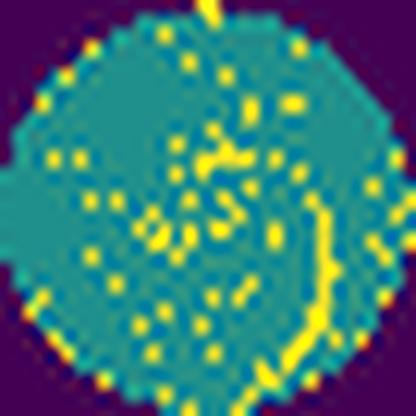Scratch: (222, 191, 346, 416)
